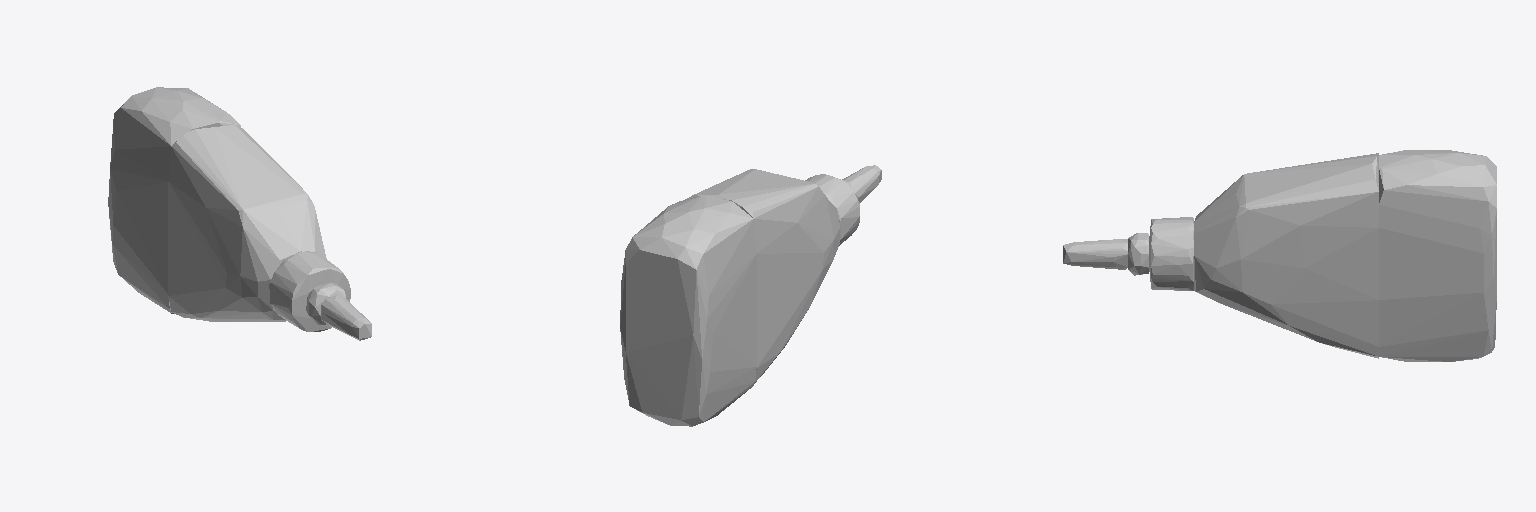
Rendered from cpsglue_collision_vhacd.obj.
3 views of the same model, side by side, from view 1: azimuth 30°, elevation 25°; view 2: azimuth 150°, elevation 25°; view 3: azimuth 270°, elevation 25° (orthographic).
Parts seen in each view (by area): view 1: convex_1, convex_0, convex_2, convex_4, convex_3; view 2: convex_0, convex_1, convex_2, convex_4; view 3: convex_1, convex_0, convex_2, convex_4, convex_3.
Boxes of the visible parts, <box> form: convex_1: <box>168,125,326,321</box>; convex_0: <box>108,87,240,313</box>; convex_2: <box>269,251,350,331</box>; convex_4: <box>321,295,371,340</box>; convex_3: <box>306,283,346,324</box>; convex_0: <box>620,195,756,426</box>; convex_1: <box>685,169,839,382</box>; convex_2: <box>805,174,859,245</box>; convex_4: <box>842,165,881,202</box>; convex_1: <box>1194,153,1378,358</box>; convex_0: <box>1379,150,1496,361</box>; convex_2: <box>1149,217,1193,290</box>; convex_4: <box>1063,239,1127,269</box>; convex_3: <box>1128,233,1148,275</box>.
Size of the model in its own units: 0.0308 by 0.0684 by 0.1363.